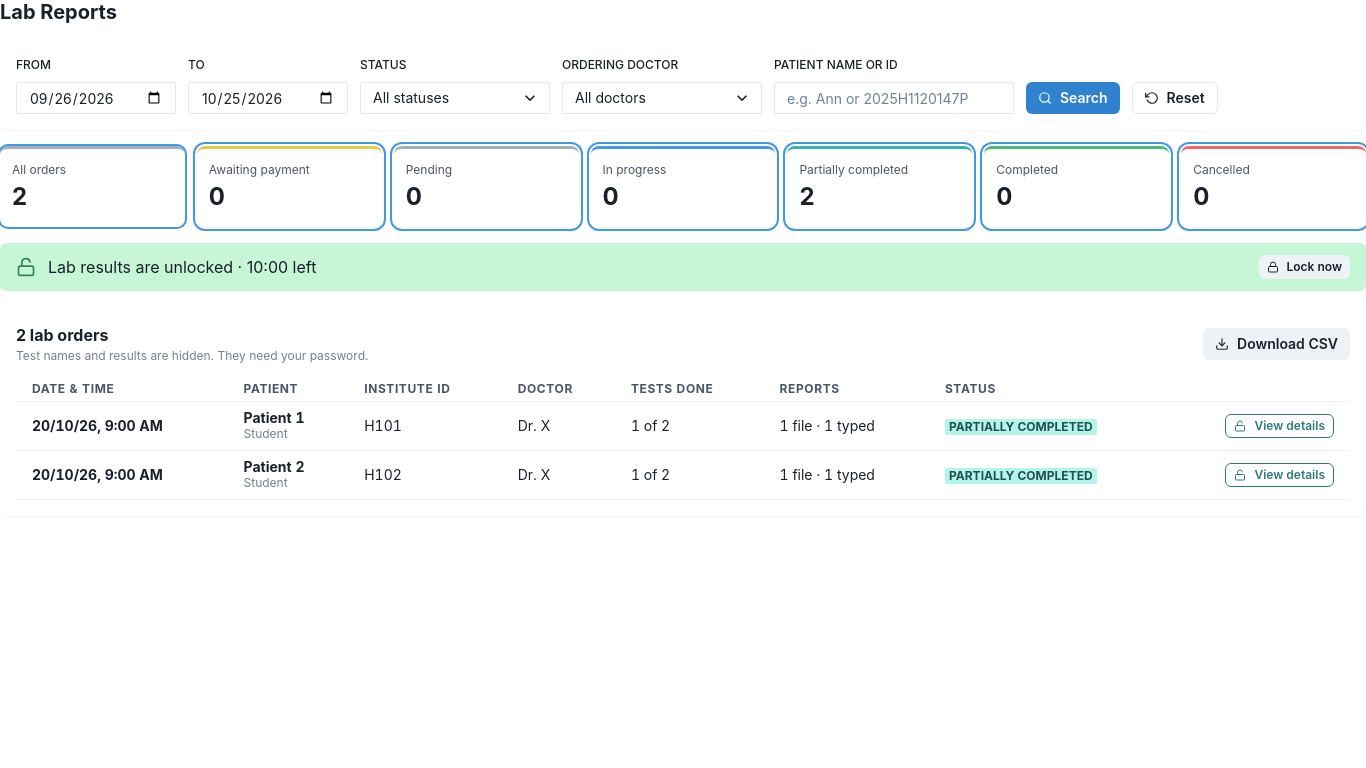
Test case: Admin Reports - password-protected results › the 10 minutes › a window already open on arrival needs no password
Expected: the text "Patient 1" is shown, [244,409,304,426]
Click the button "View details" in the row of "Patient 1" at (1280, 426), box [1226,414,1334,438]
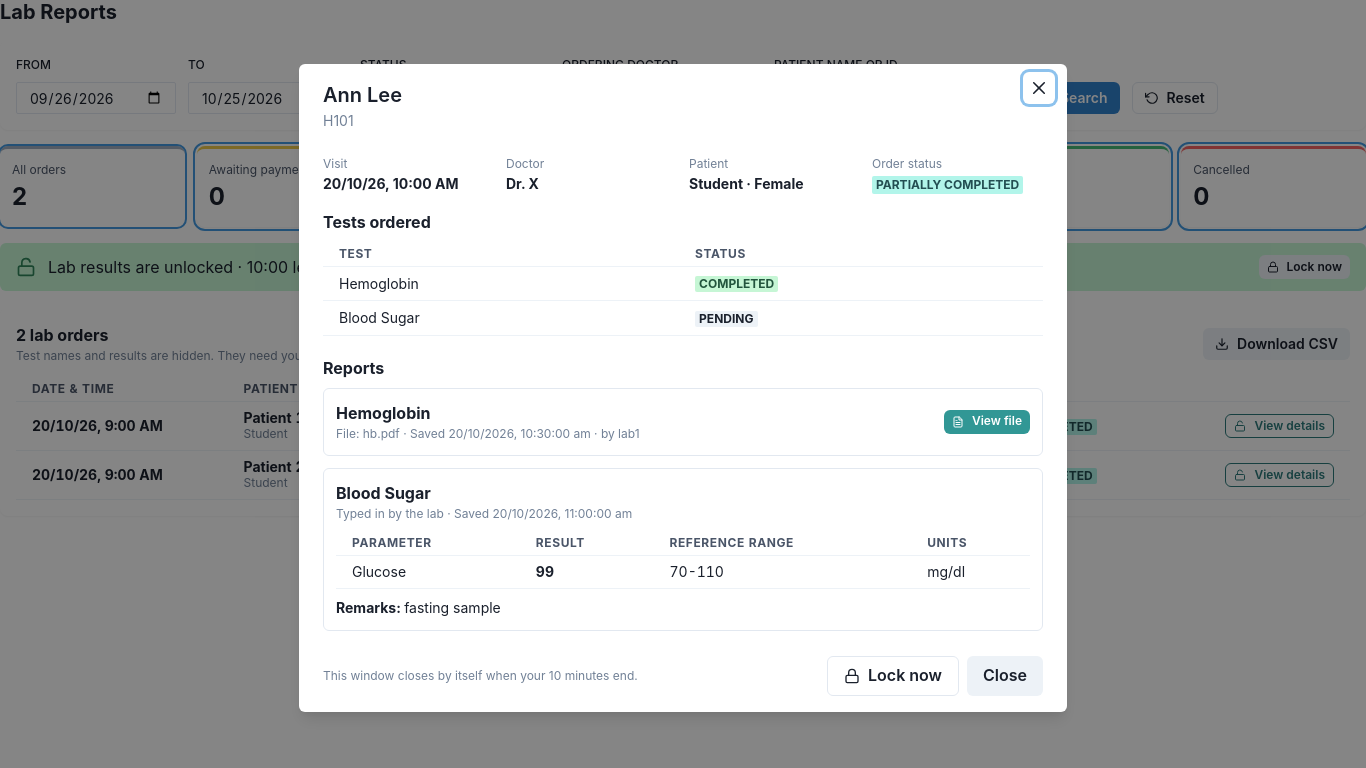
Result: the dialog "Ann Lee" is shown at [299,64,1067,712]
Result: the text "Blood Sugar" is shown at [323,301,679,335]
